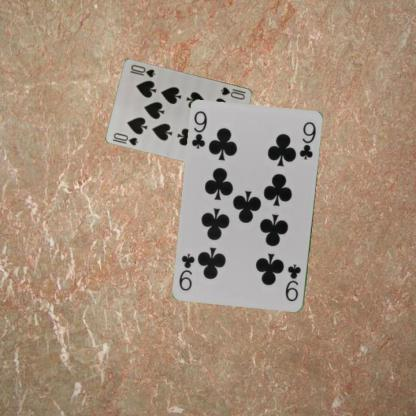10s: (111, 130, 140, 147), (218, 84, 248, 100)
9c: (282, 262, 302, 303), (190, 108, 209, 151)
